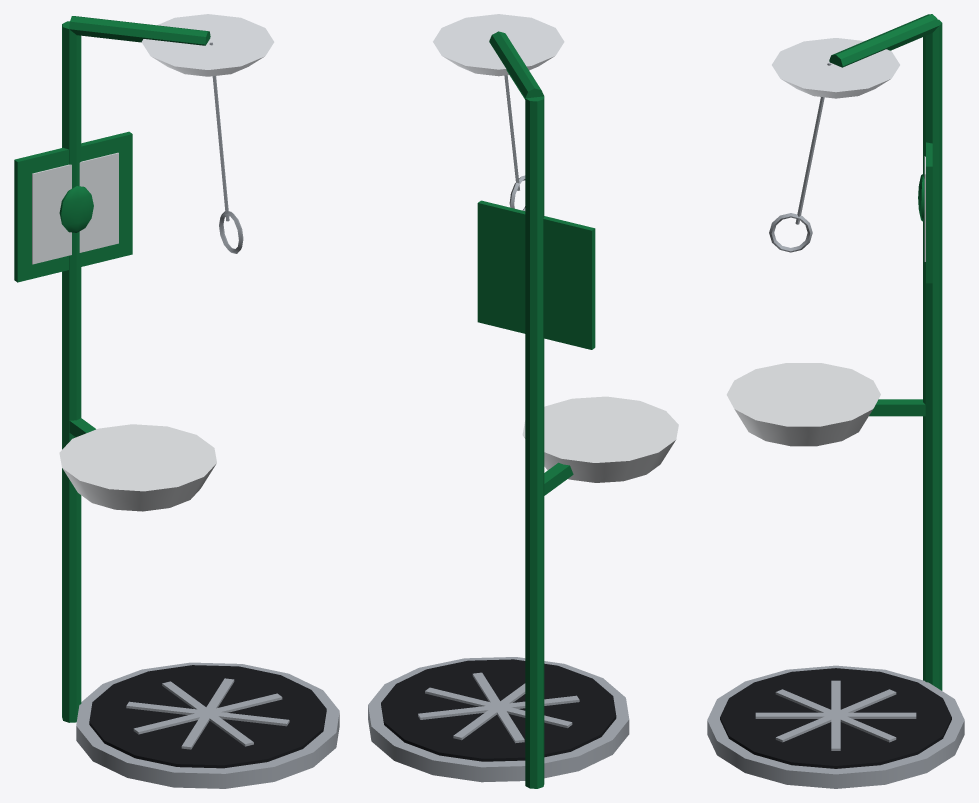
File: safety_emergency_shower.glb
3 renders of one model, left to right at view 1: azimuth 30°, elevation 25°; view 2: azimuth 150°, elevation 25°; view 3: azimuth 270°, elevation 25°, orthographic. The views are drawn at different scales.
Visible parts, largest first — view 1: safety_emergency_shower; view 2: safety_emergency_shower; view 3: safety_emergency_shower.
Boxes of the visible parts, x1,y1,x2,y2 form: safety_emergency_shower: (14, 14, 339, 788); safety_emergency_shower: (368, 14, 678, 788); safety_emergency_shower: (707, 14, 964, 788).
Bounding box in the file's own units: 0.934 × 2.33 × 0.8.
